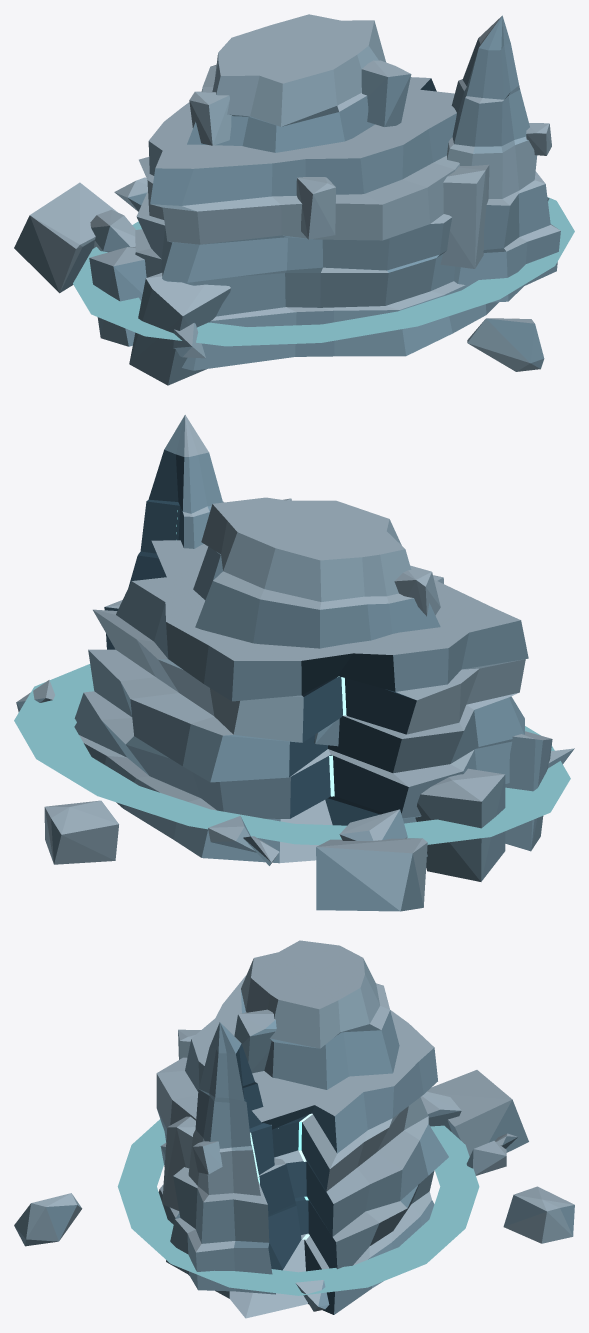
File: iceberg_b.glb
The picture shows the model from 3 angles, top to bottom: view 1: azimuth 30°, elevation 25°; view 2: azimuth 150°, elevation 25°; view 3: azimuth 270°, elevation 25°; orthographic projection. The views are drawn at different scales.
Visible parts, largest first — view 1: iceberg_b; view 2: iceberg_b; view 3: iceberg_b.
Part boxes in pixels (box(x1,y1,x2,y2)): iceberg_b: box(14, 14, 574, 385); iceberg_b: box(14, 415, 574, 911); iceberg_b: box(14, 940, 574, 1318).
Bounding box in the file's own units: 24.32 × 14.56 × 26.05.
